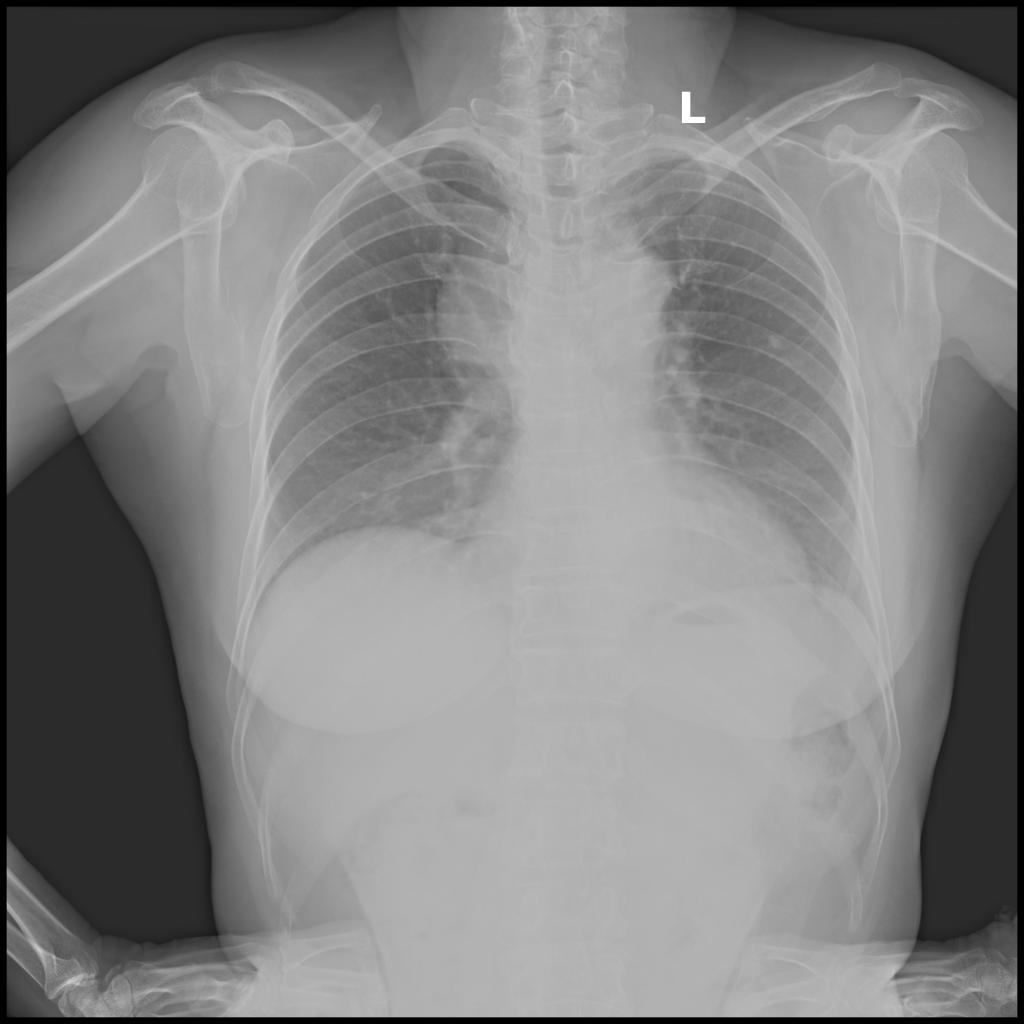Nodule: (432, 236, 520, 368)
